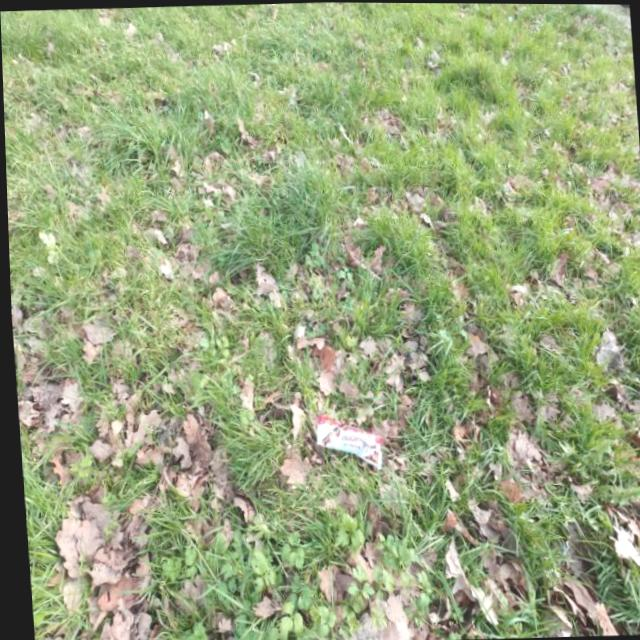Plastic: (310, 411, 382, 472)
